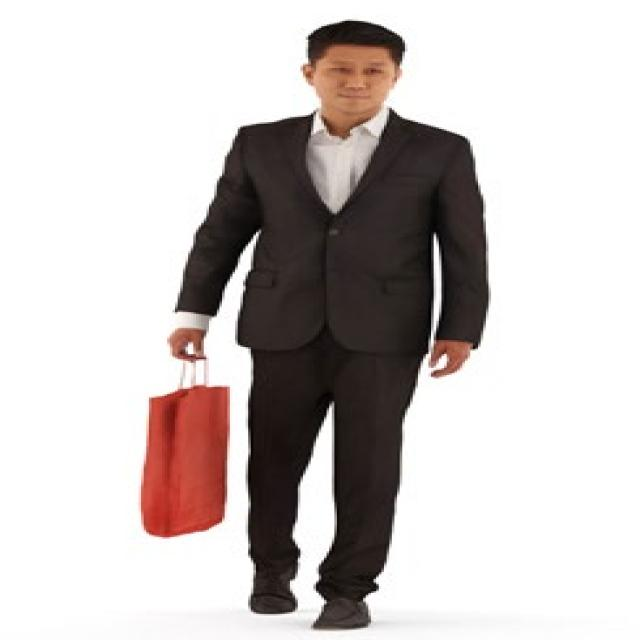standing: (165, 21, 497, 632)
